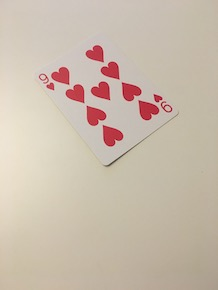NineOfHearts: (31, 30, 181, 167)
